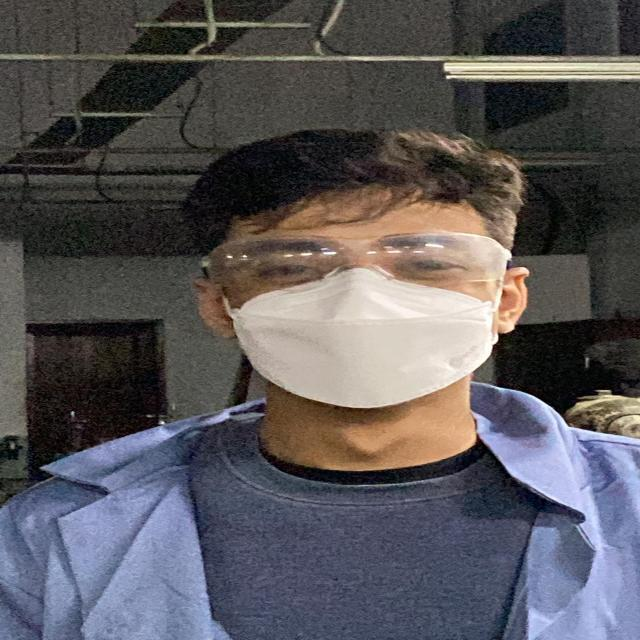glasses: (188, 226, 522, 298)
